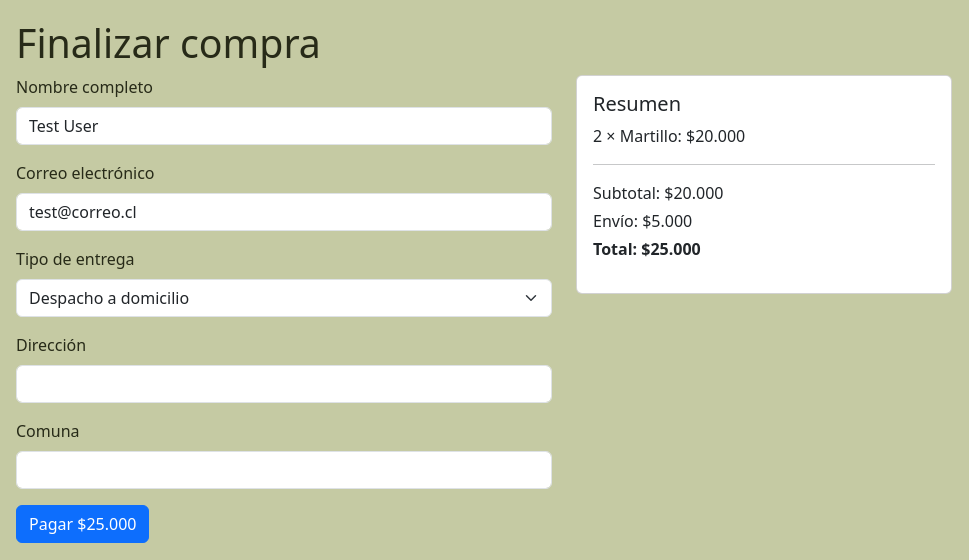
Test: CheckoutPage › pays, shows the order inline, empties the cart and discounts stock
Type "Calle 123" into the field labelled "Dirección". click: (284,384)
box: [16,365,552,403]
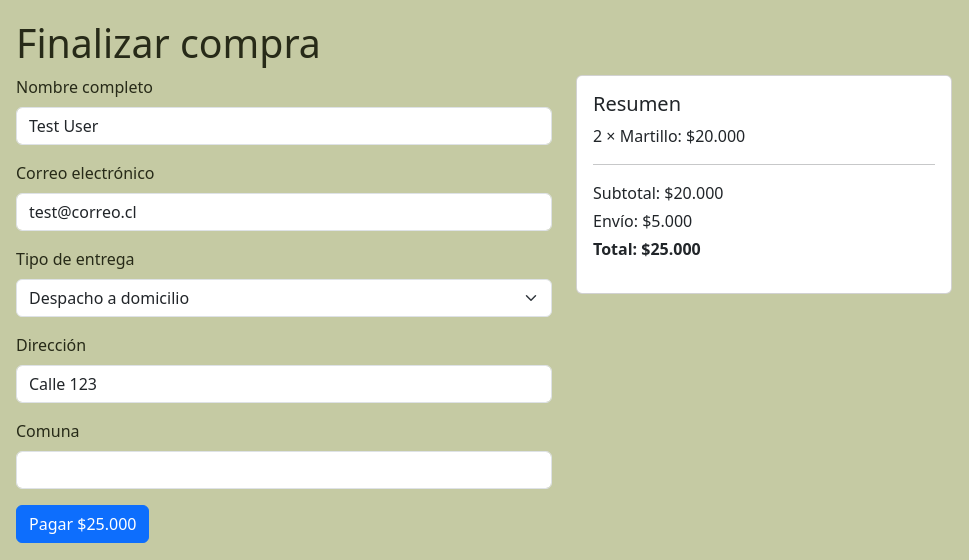
Type "Pudahuel" into the field labelled "Comuna". click: (284,470)
box: [16,451,552,489]
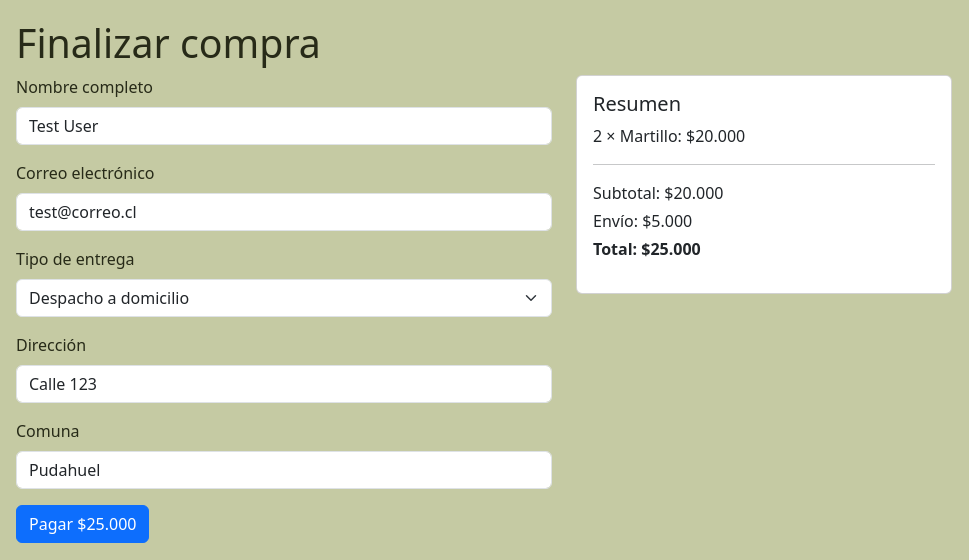
Click the button "Pagar $25.000". click: (83,524)
box: [16,505,150,543]
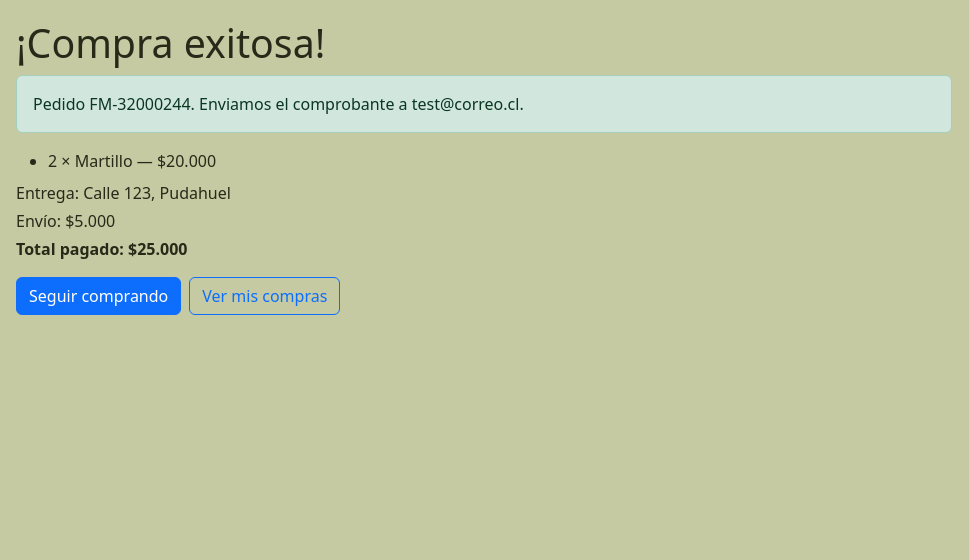
Check: the heading "¡Compra exitosa!" is shown, box [16,16,325,70]
